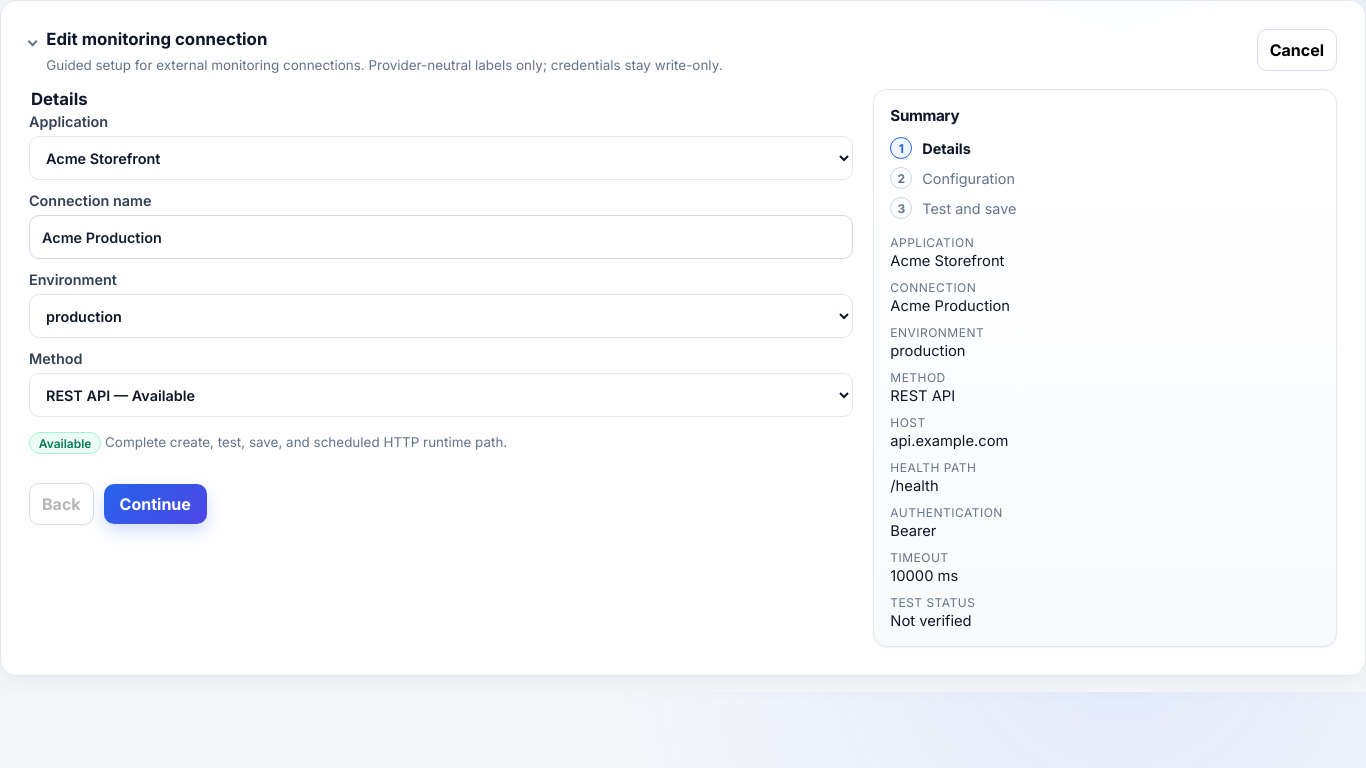
Test: ConnectionWizard › shows configured hint when editing a connection with an existing secret
Click the button "Continue": (155, 504) [104,484,207,524]
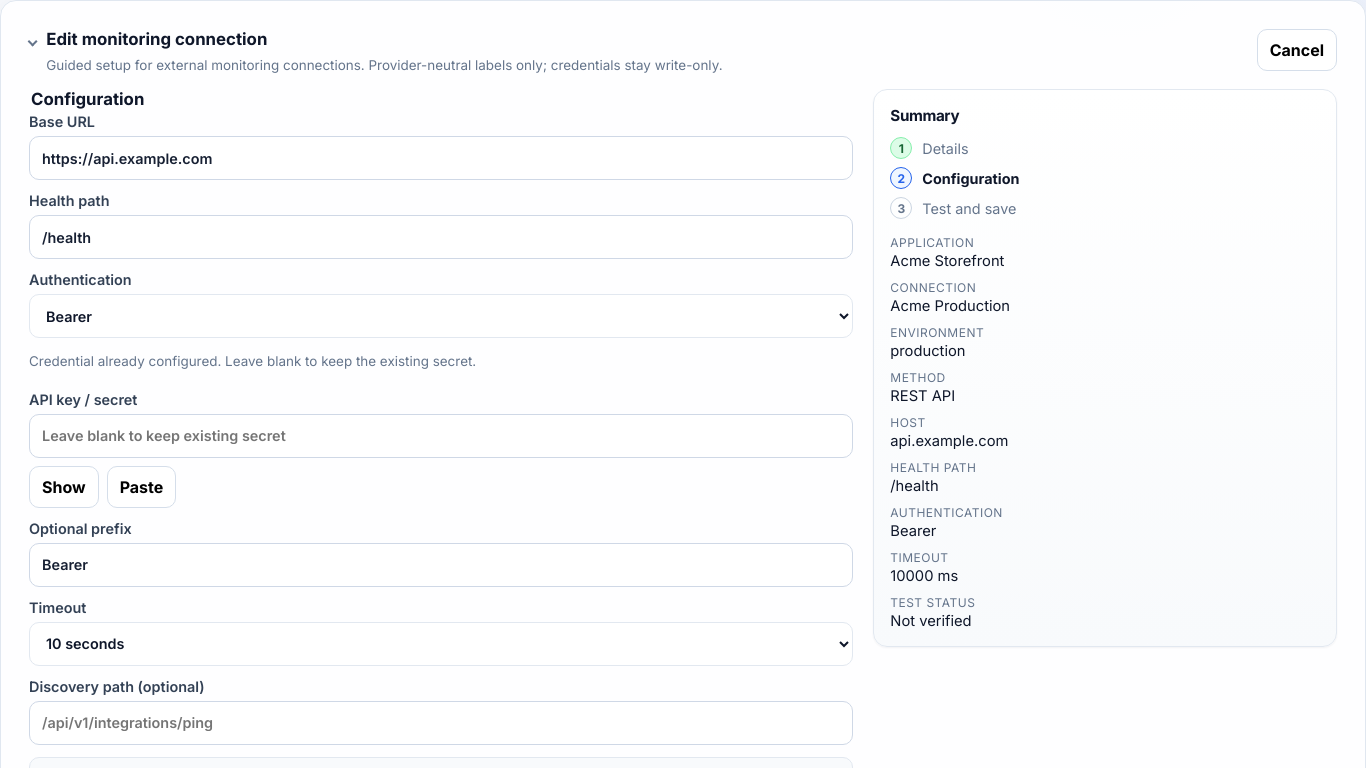
Expected: the text with test id "connection-secret-configured-hint" is shown, [29,353,476,369]
Expected: the password field with test id "connection-auth-secret" is empty, [29,414,853,458]
